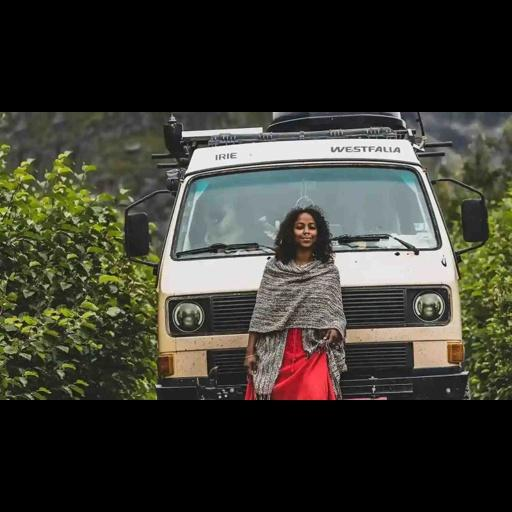van: (126, 110, 485, 399)
